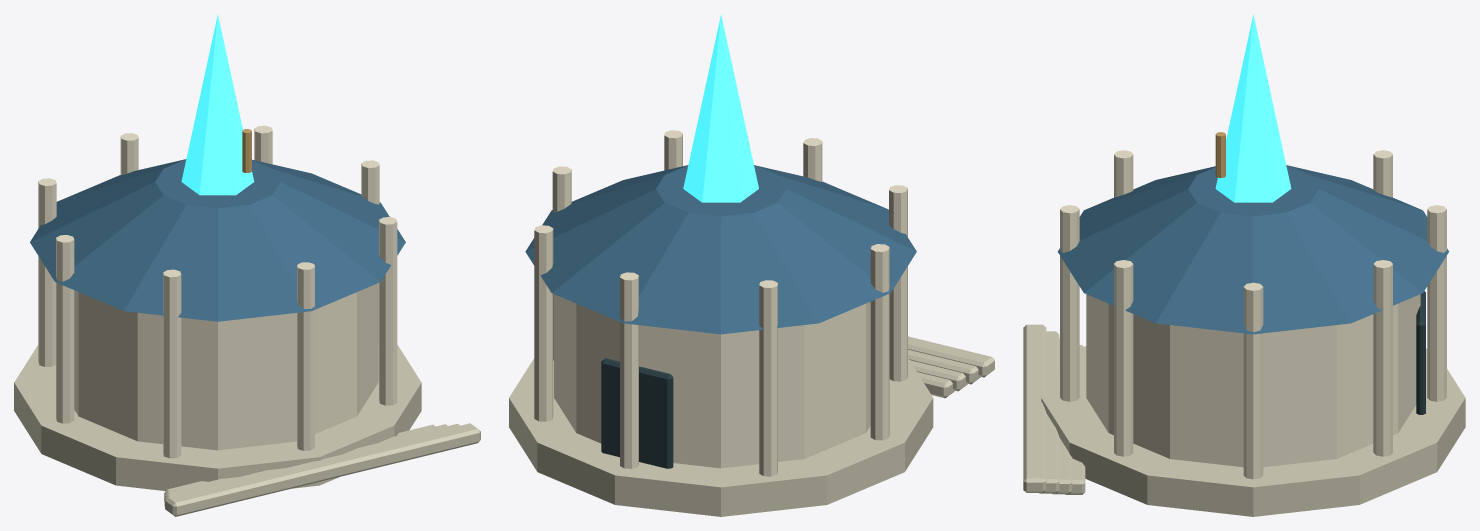
The model's file is level_26.glb.
3 views of the same model, side by side, from view 1: azimuth 30°, elevation 25°; view 2: azimuth 150°, elevation 25°; view 3: azimuth 270°, elevation 25° (orthographic). The views are drawn at different scales.
Visible parts, largest first — view 1: mage_guild — level 26; view 2: mage_guild — level 26; view 3: mage_guild — level 26.
Part boxes in pixels (left/top/right/bottom): mage_guild — level 26: left=14, top=14, right=480, bottom=516; mage_guild — level 26: left=509, top=14, right=994, bottom=516; mage_guild — level 26: left=1023, top=14, right=1465, bottom=516.
Bounding box in the file's own units: 5.2 × 5.59 × 5.42.
